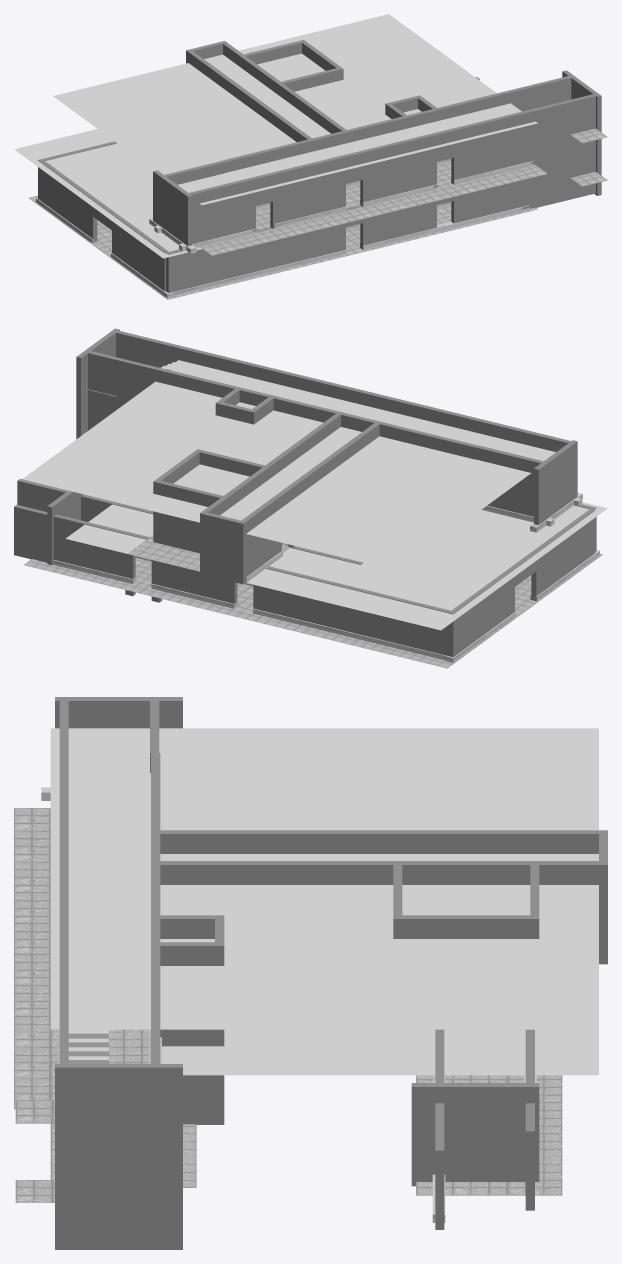
File: floors.fbx
3 renders of one model, top to bottom at view 1: azimuth 30°, elevation 25°; view 2: azimuth 150°, elevation 25°; view 3: azimuth 270°, elevation 25°, orthographic. The views are drawn at different scales.
Visible parts, largest first — view 1: plane, plane_1, cuboid_25, cuboid_122, cuboid_82, cuboid_16, cuboid_17, cuboid_118, cuboid_24, cuboid_115, cuboid_101, cuboid_102 (+33 smaller); view 2: plane, plane_1, cuboid_90, cuboid_24, cuboid_95, cuboid_25, cuboid_102, cuboid_115, cuboid_101, cuboid_4, cuboid_11, cuboid_3 (+22 smaller); view 3: plane, cuboid_67, plane_1, cuboid_100, cuboid_1, cuboid, cuboid_2, cuboid_115, cuboid_12, cuboid_3, cuboid_21, cuboid_98 (+26 smaller).
Boxes of the visible parts, x1=… form: plane: x1=53, y1=14, x2=537, y2=205; plane_1: x1=14, y1=129, x2=201, y2=258; cuboid_25: x1=458, y1=94, x2=595, y2=178; cuboid_122: x1=166, y1=225, x2=339, y2=292; cuboid_82: x1=460, y1=150, x2=595, y2=221; cuboid_16: x1=367, y1=134, x2=429, y2=200; cuboid_17: x1=277, y1=157, x2=339, y2=222; cuboid_118: x1=188, y1=179, x2=248, y2=243; cuboid_24: x1=437, y1=75, x2=573, y2=120; cuboid_115: x1=153, y1=170, x2=192, y2=246; cuboid_101: x1=40, y1=161, x2=97, y2=243; cuboid_102: x1=112, y1=213, x2=168, y2=291; plane: x1=22, y1=361, x2=555, y2=570; plane_1: x1=65, y1=502, x2=607, y2=630; cuboid_90: x1=260, y1=566, x2=455, y2=657; cuboid_24: x1=85, y1=350, x2=237, y2=417; cuboid_95: x1=14, y1=505, x2=127, y2=577; cuboid_25: x1=114, y1=330, x2=269, y2=381; cuboid_102: x1=531, y1=509, x2=595, y2=600; cuboid_115: x1=534, y1=440, x2=577, y2=525; cuboid_101: x1=451, y1=567, x2=514, y2=654; cuboid_4: x1=153, y1=479, x2=222, y2=553; cuboid_11: x1=204, y1=512, x2=240, y2=582; cuboid_3: x1=238, y1=494, x2=281, y2=584; plane: x1=50, y1=728, x2=598, y2=1029; cuboid_67: x1=55, y1=1064, x2=182, y2=1249; plane_1: x1=162, y1=1029, x2=598, y2=1075; cuboid_100: x1=411, y1=1083, x2=539, y2=1186; cuboid_1: x1=151, y1=830, x2=443, y2=853; cuboid: x1=151, y1=861, x2=443, y2=884; cuboid_2: x1=480, y1=861, x2=607, y2=964; cuboid_115: x1=55, y1=697, x2=182, y2=728; cuboid_12: x1=402, y1=915, x2=530, y2=938; cuboid_3: x1=480, y1=830, x2=607, y2=853; cuboid_21: x1=151, y1=942, x2=214, y2=1045; cuboid_98: x1=435, y1=1029, x2=444, y2=1229.
Bounding box in the file's own units: 638 × 150 × 406.
Materials: 2 (2 with a texture image).
